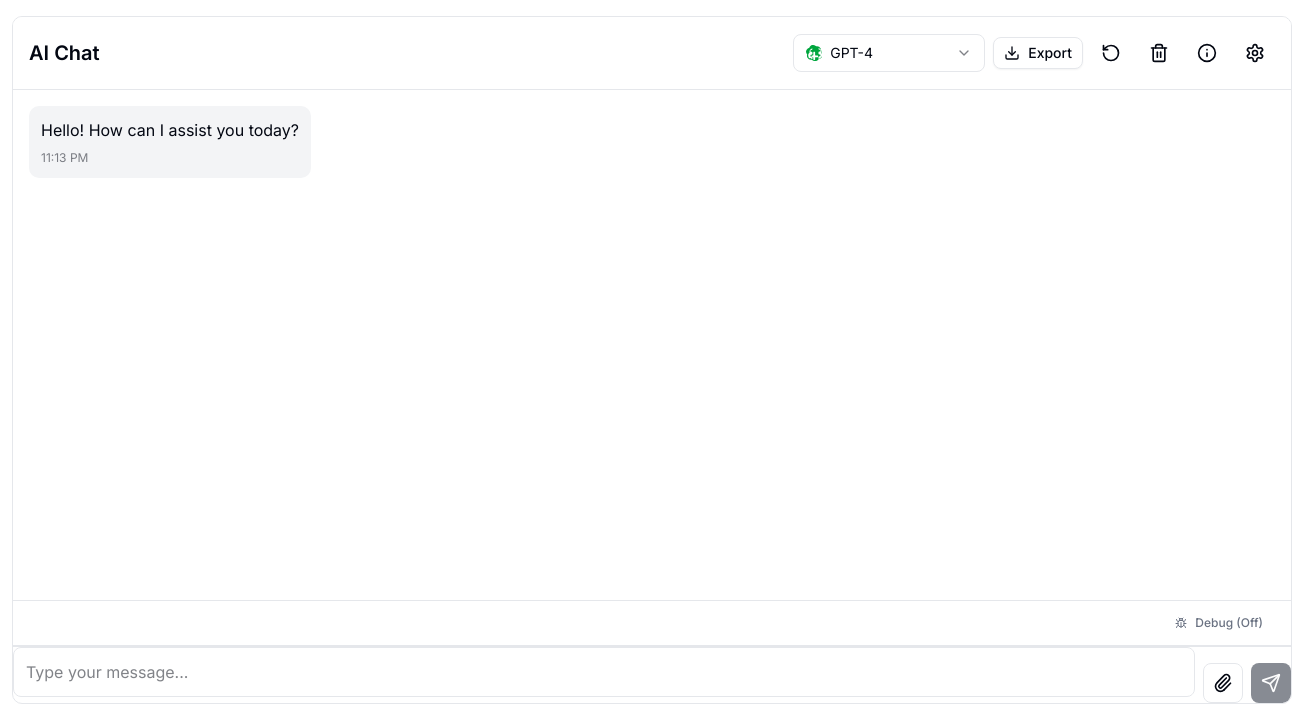
Test: ChatInterface › Debug Mode › should handle rapid debug mode toggling
Step 1. Click the button "Debug (Off)" → (1219, 623), box 1163,605 -> 1275,641
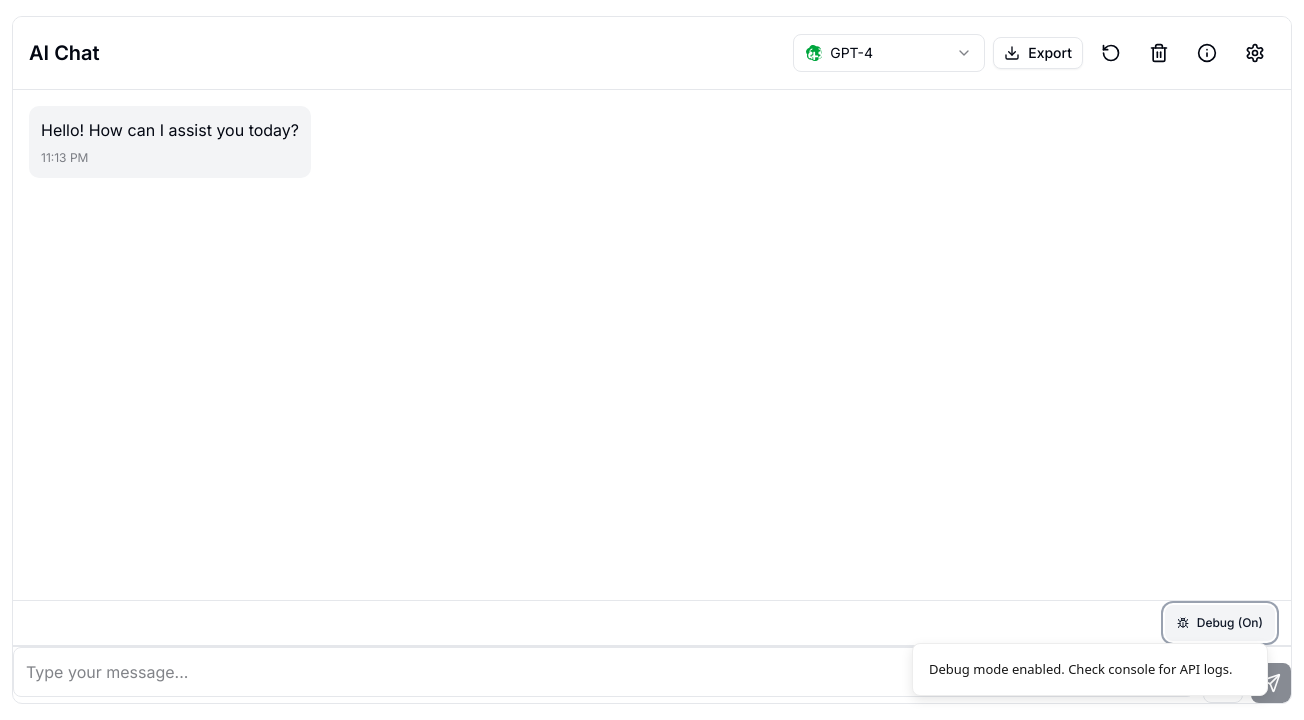
Step 2. Click the button "Debug (On)" → (1220, 623), box 1165,605 -> 1275,641
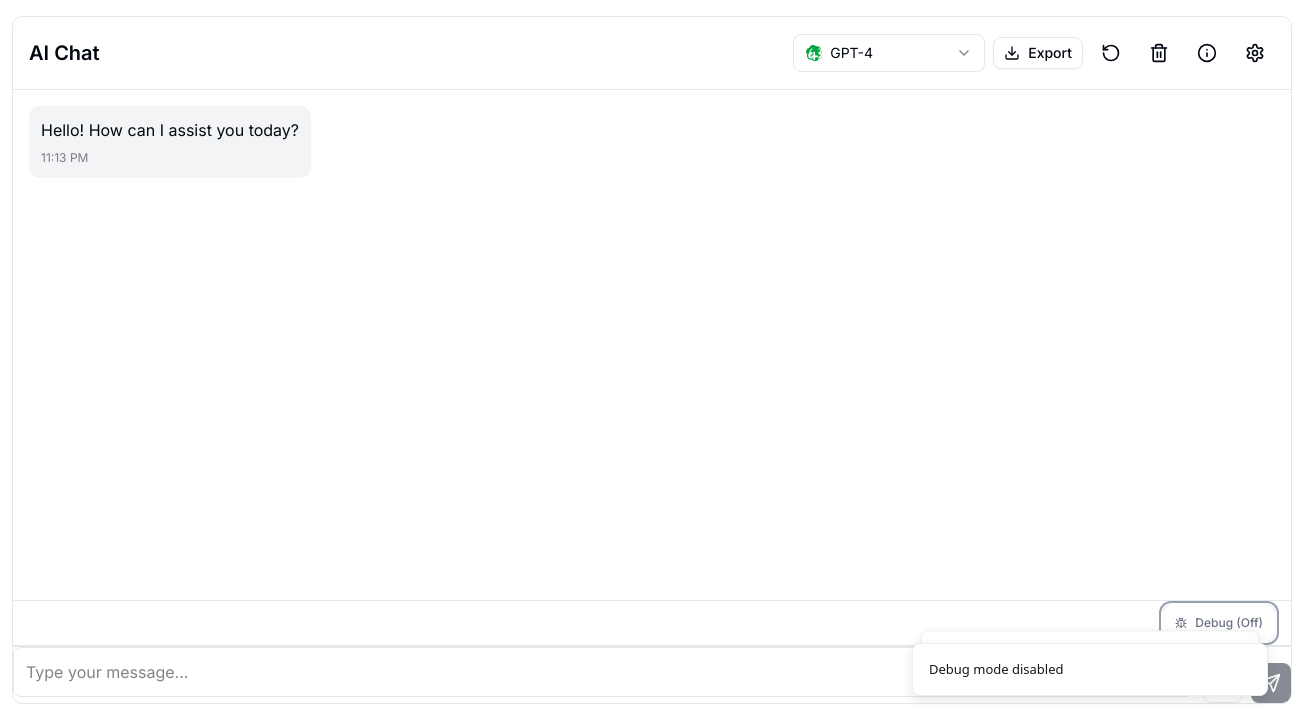
Step 3. Click the button "Debug (Off)" → (1219, 623), box 1163,605 -> 1275,641
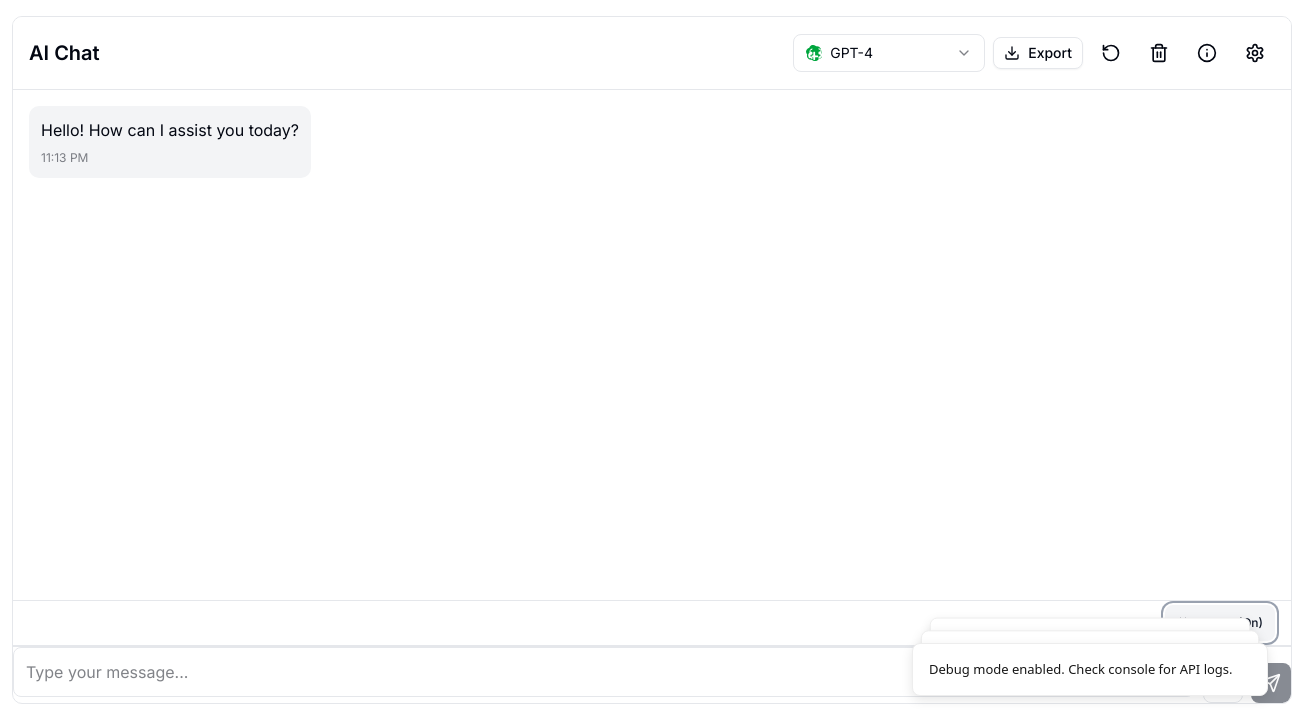
expect the text "Debug mode enabled" is shown: met, box 929,660 -> 1233,678
